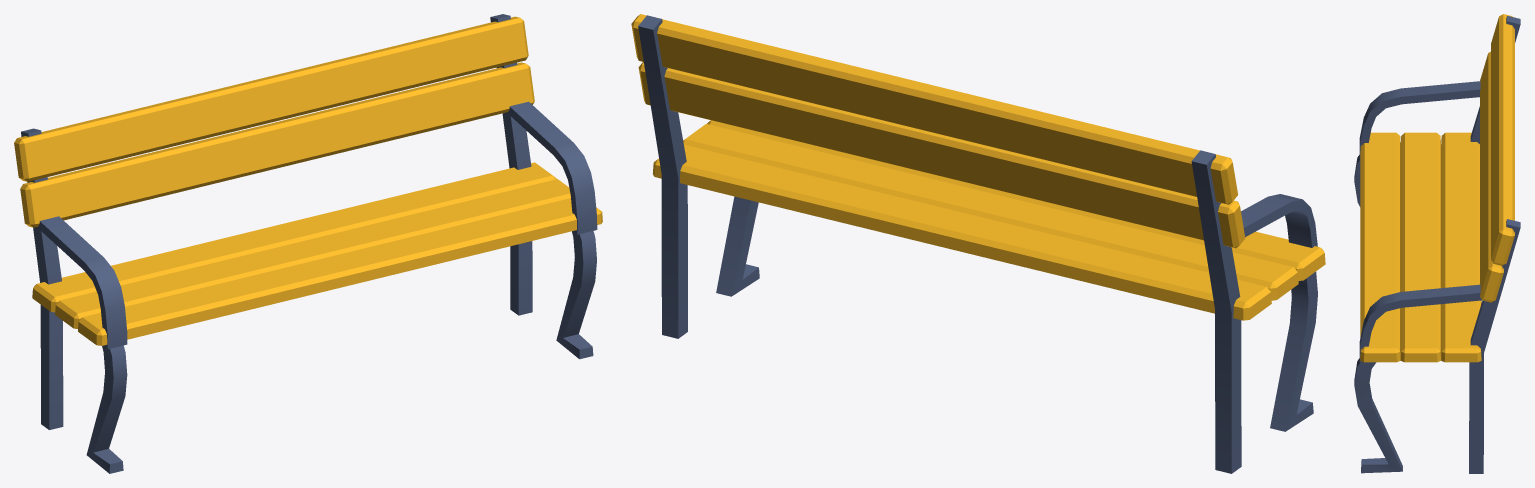
The model's file is bench3.fbx.
3 renders of one model, left to right at view 1: azimuth 30°, elevation 25°; view 2: azimuth 150°, elevation 25°; view 3: azimuth 270°, elevation 25°, orthographic. The views are drawn at different scales.
Visible parts, largest first — view 1: shop_center_1_4096; view 2: shop_center_1_4096; view 3: shop_center_1_4096.
Part boxes in pixels (<box>): shop_center_1_4096: <box>14,14,602,473</box>; shop_center_1_4096: <box>631,14,1325,473</box>; shop_center_1_4096: <box>1354,14,1520,473</box>.
Bounding box in the file's own units: 3.44 × 1.82 × 1.1.
